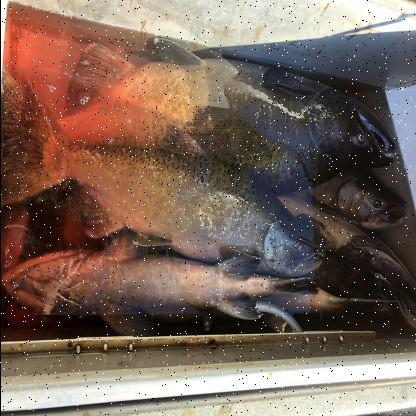fish: (1, 63, 330, 282), (4, 35, 402, 197), (7, 228, 322, 328)
